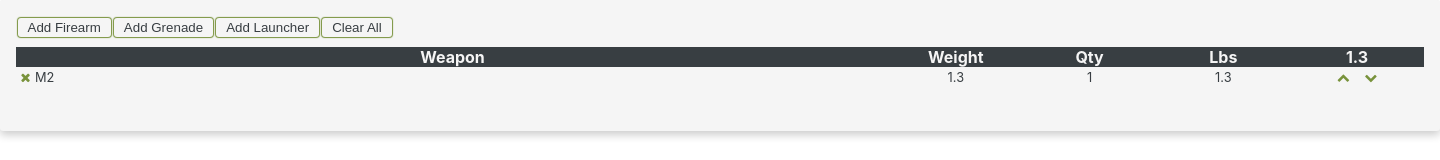
Scenario: weapons card intergration tests › selecting grenades › should be possible to increment grenade qty up
The image size is (1440, 160).
Click the button with class "button--up" at [1343, 77], box top-left (1335, 69), bottom-right (1351, 85)
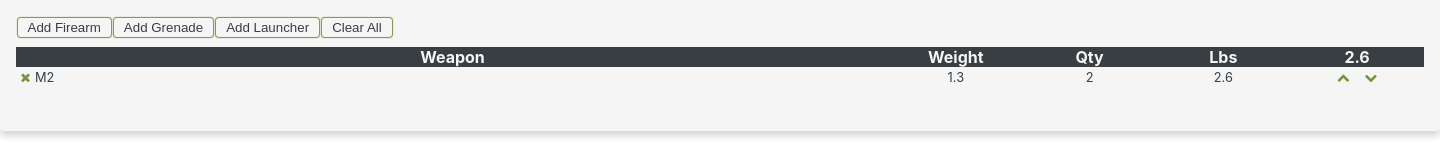
expect the element with class "gear-table-row--container" reads "M2 1.3 2 2.6": met, box top-left (16, 66), bottom-right (1424, 88)
